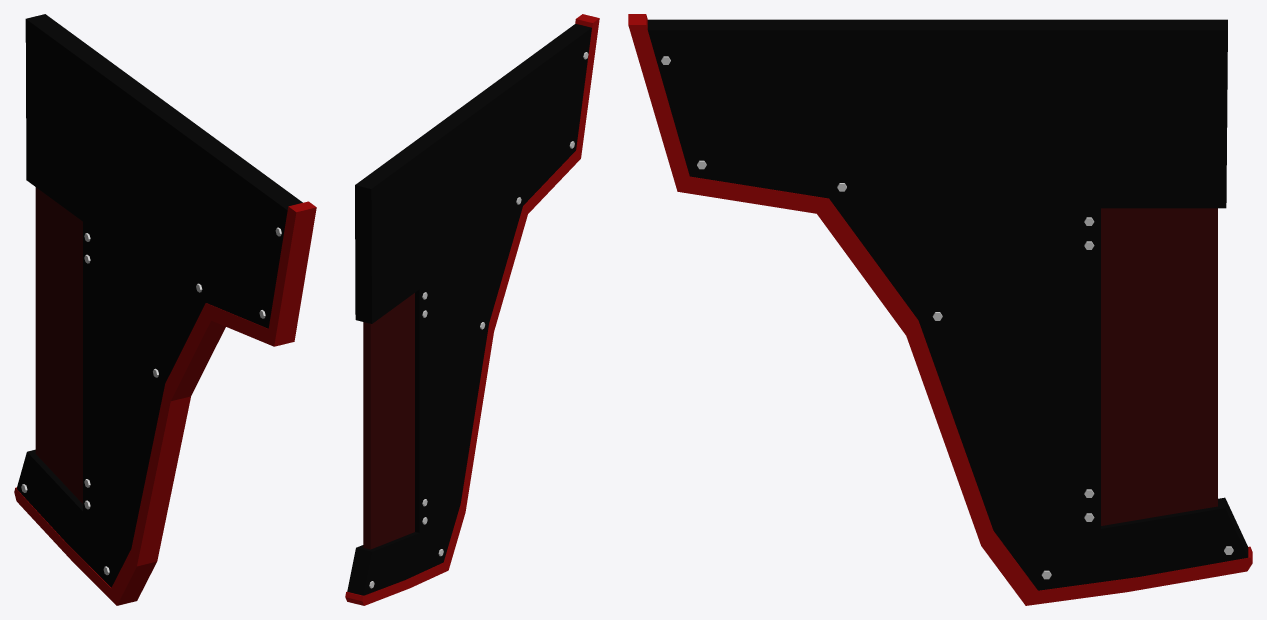
The model's file is rudder_curved.glb.
3 views of the same model, side by side, from view 1: azimuth 30°, elevation 25°; view 2: azimuth 150°, elevation 25°; view 3: azimuth 270°, elevation 25° (orthographic). The views are drawn at different scales.
Visible parts, largest first — view 1: Cube, Cube.002, Cube.001, Cylinder; view 2: Cube, Cube.001, Cube.002, Cylinder; view 3: Cube, Cube.001, Cube.002.
Part boxes in pixels (x1,y1,x2,y2): Cube: (16,14,302,587); Cube.002: (14,201,316,605); Cube.001: (35,187,82,503); Cylinder: (21,227,281,575); Cube: (347,23,591,595); Cube.001: (363,293,414,549); Cube.002: (345,14,599,605); Cylinder: (369,52,588,588); Cube: (647,19,1248,590); Cube.001: (1101,208,1217,525); Cube.002: (628,14,1252,605).
Size of the model in its own units: 0.4106 by 8.76 by 8.54.
